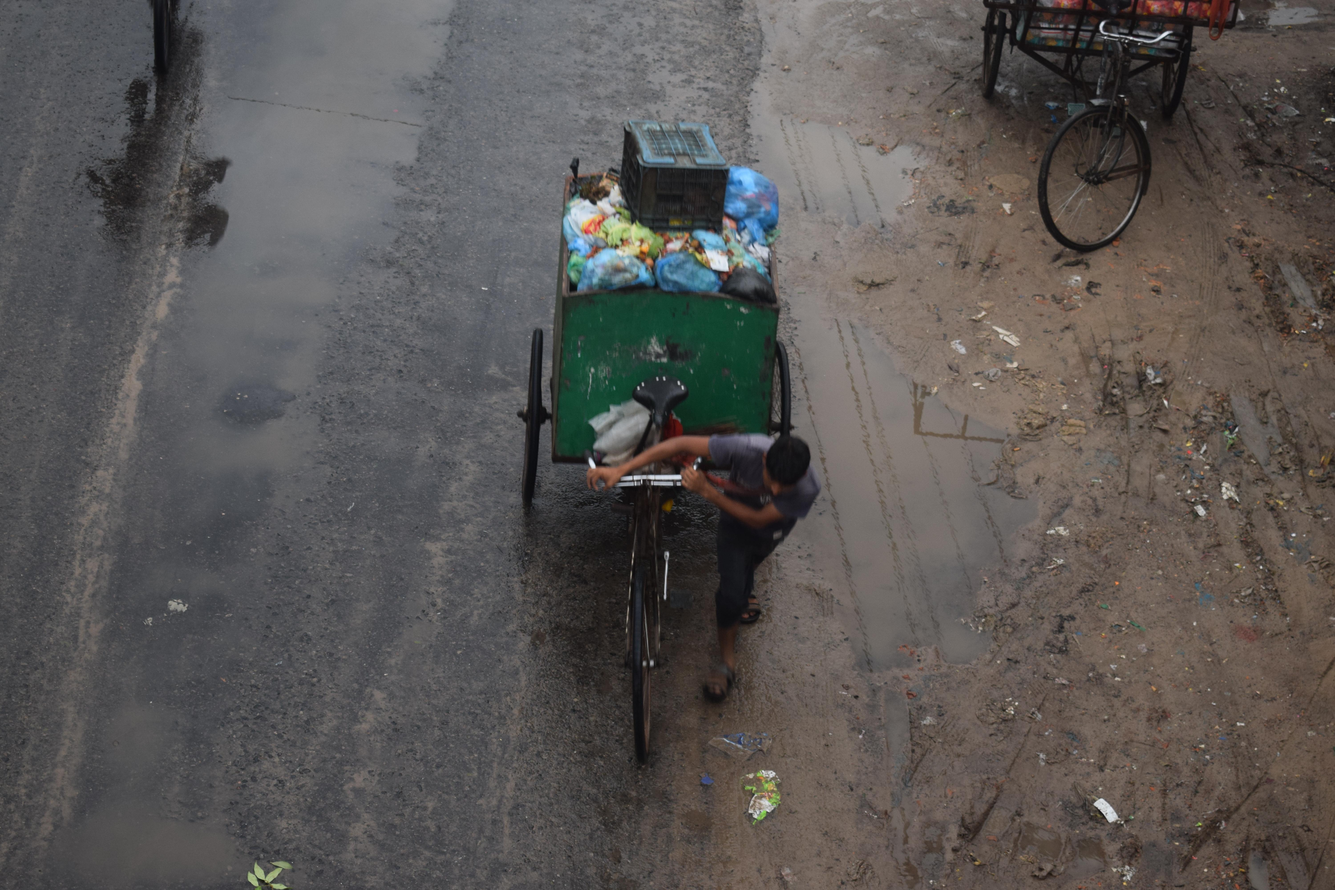Car: (406, 61, 890, 789)
